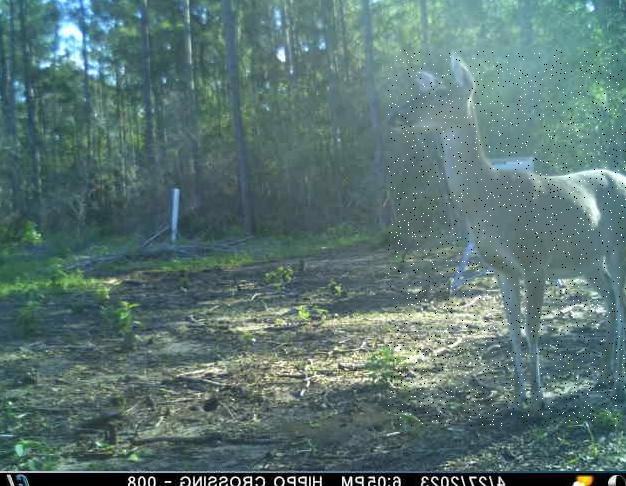Deer: (388, 50, 626, 426)
